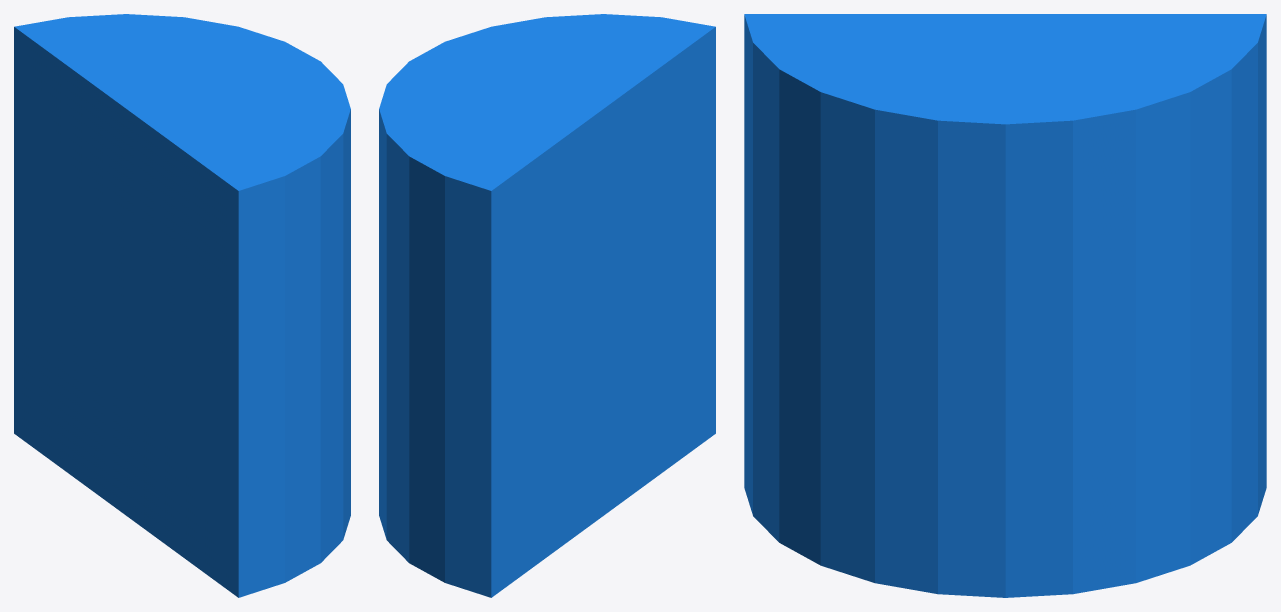
Rendered from Proto_Block_Cylinder_Half_01.fbx.
The picture shows the model from 3 angles, left to right: view 1: azimuth 30°, elevation 25°; view 2: azimuth 150°, elevation 25°; view 3: azimuth 270°, elevation 25°; orthographic projection. The views are drawn at different scales.
Visible parts, largest first — view 1: Proto_Block_Cylinder_Half_01; view 2: Proto_Block_Cylinder_Half_01; view 3: Proto_Block_Cylinder_Half_01.
Part boxes in pixels (bbox=[...]): Proto_Block_Cylinder_Half_01: bbox=[14, 14, 350, 597]; Proto_Block_Cylinder_Half_01: bbox=[379, 14, 715, 597]; Proto_Block_Cylinder_Half_01: bbox=[744, 14, 1266, 597].
Size of the model in its own units: 0.5 by 1 by 1.
